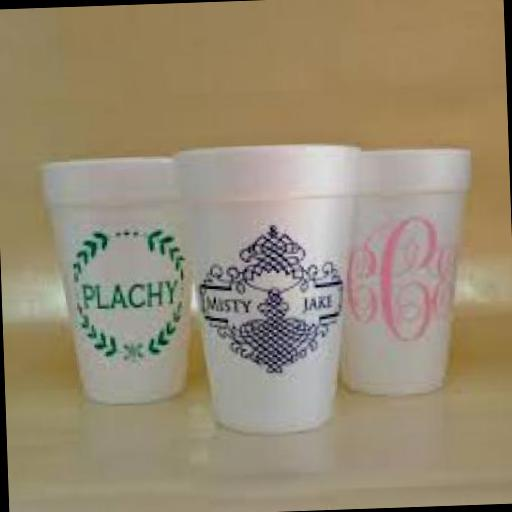paper: (171, 134, 373, 436), (37, 150, 192, 404), (324, 143, 474, 400)
